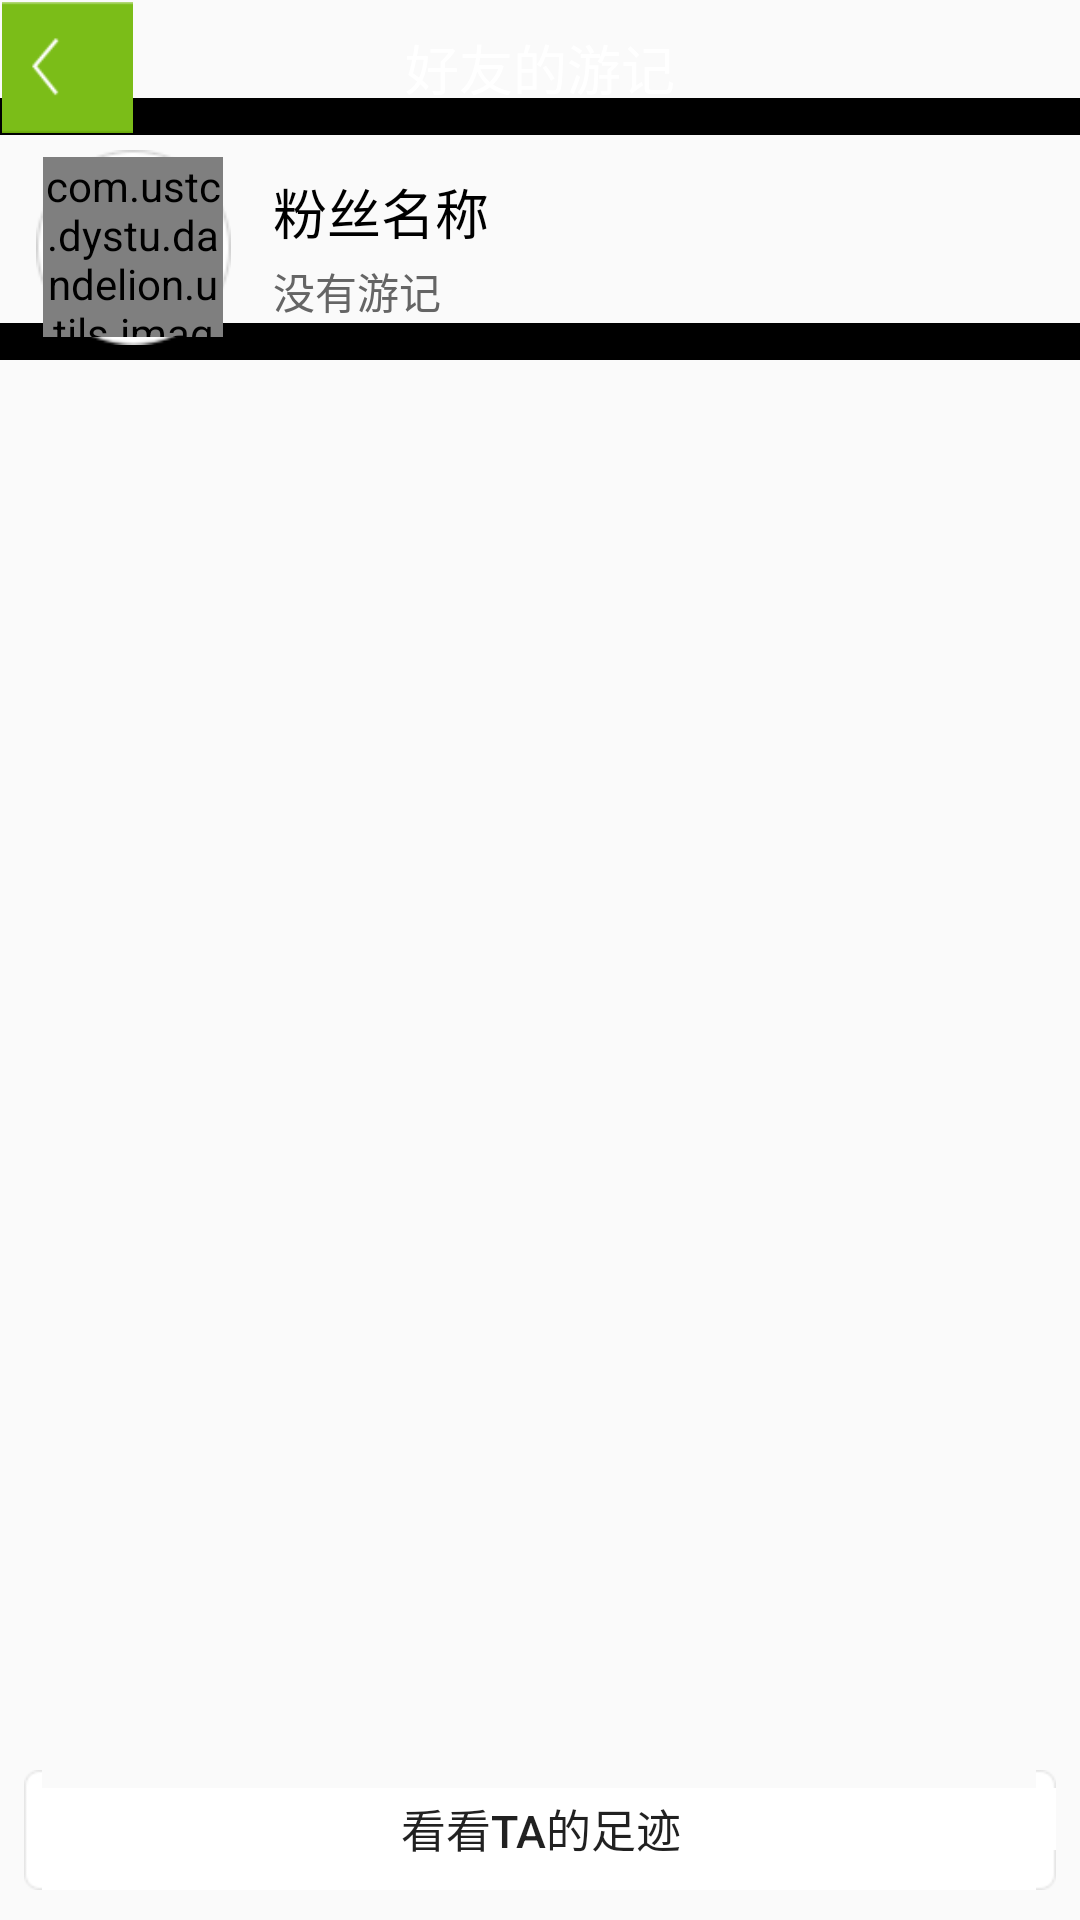

Where icons sit on this 1080px×1920px app screen, as [x1, y1, x2, y2]:
home back: [0, 2, 139, 133]
